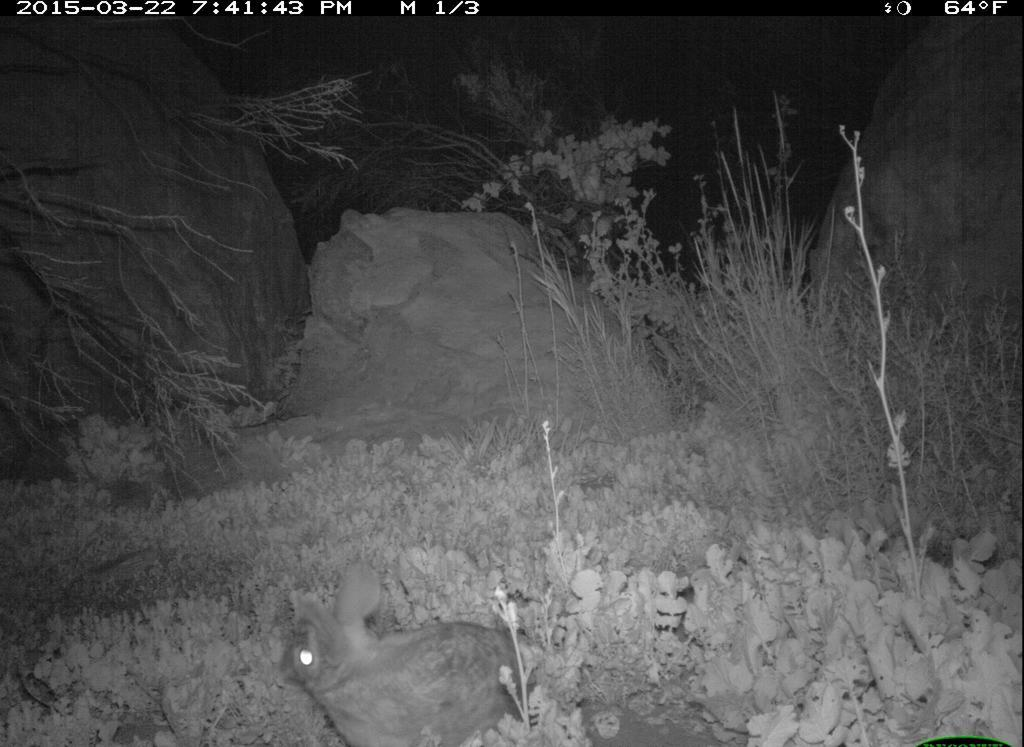rabbit: (267, 574, 566, 747)
